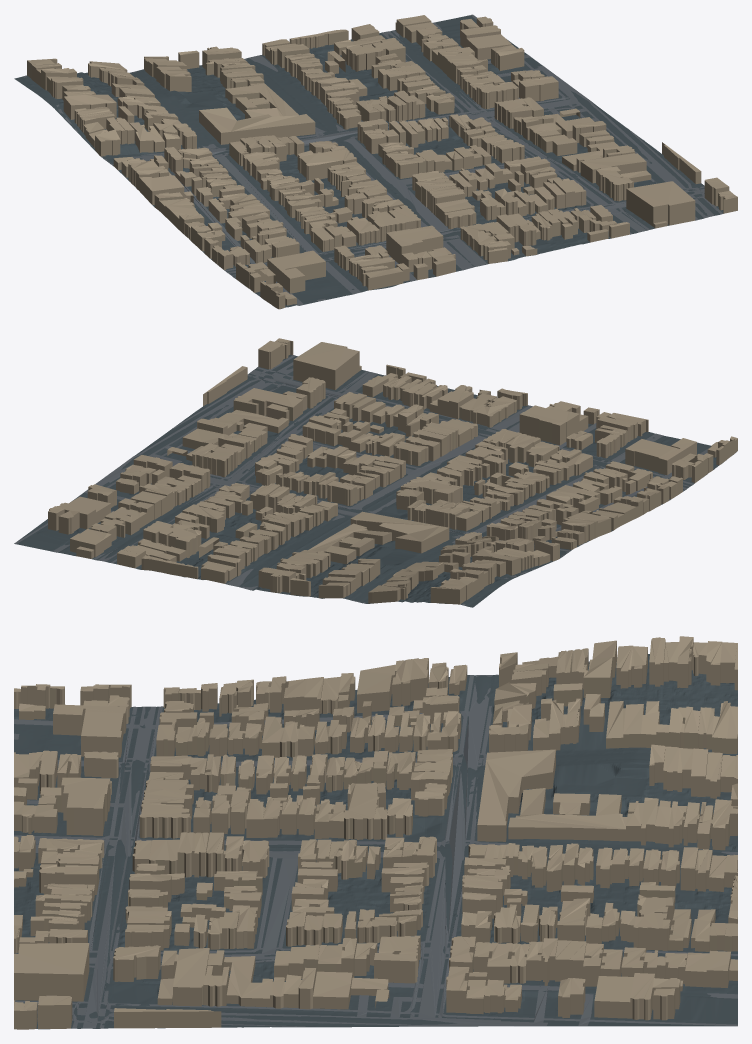
Rendered from epsg26910-1434-10881.lod0.glb.
3 views of the same model, one above another, from view 1: azimuth 30°, elevation 25°; view 2: azimuth 150°, elevation 25°; view 3: azimuth 270°, elevation 25° (orthographic). The views are drawn at different scales.
Parts seen in each view (by area): view 1: epsg26910-1434-10881-lod0; view 2: epsg26910-1434-10881-lod0; view 3: epsg26910-1434-10881-lod0.
Boxes of the visible parts, x1,y1,x2,y2 form: epsg26910-1434-10881-lod0: (14, 14, 737, 309); epsg26910-1434-10881-lod0: (14, 338, 737, 607); epsg26910-1434-10881-lod0: (14, 636, 737, 1029).
Bounding box in the file's own units: 384 × 55.36 × 384.
